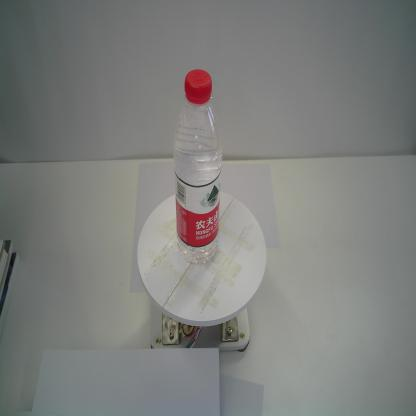Drink: (172, 68, 222, 265)
